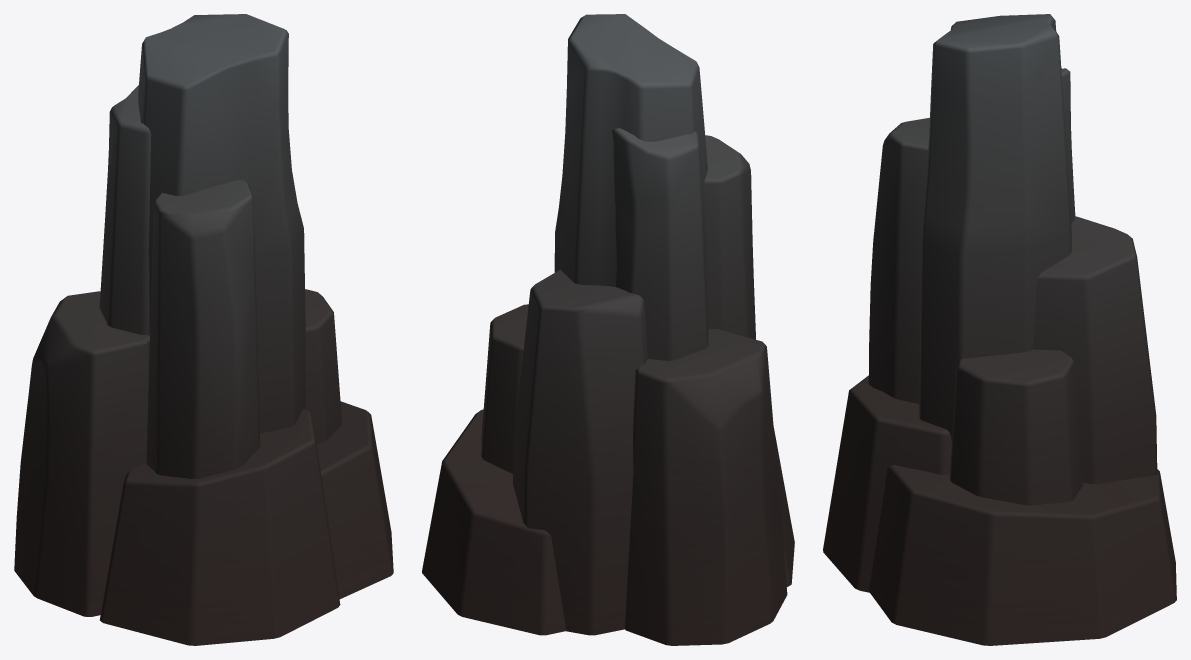
File: inferno-rock-big-001.glb
3 renders of one model, left to right at view 1: azimuth 30°, elevation 25°; view 2: azimuth 150°, elevation 25°; view 3: azimuth 270°, elevation 25°, orthographic.
Parts seen in each view (by area): view 1: RockBig_001; view 2: RockBig_001; view 3: RockBig_001.
Part boxes in pixels (box(x1,y1,x2,y2)): RockBig_001: box(14, 14, 393, 645); RockBig_001: box(422, 14, 794, 645); RockBig_001: box(823, 14, 1176, 645).
Size of the model in its own units: 22.77 by 35.03 by 20.71.
Materials: 1 (1 with a texture image).
